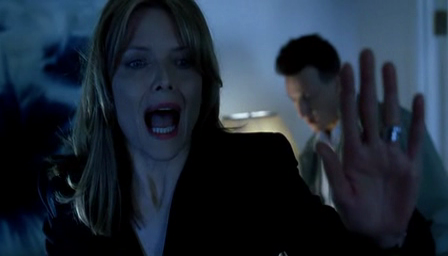face: (115, 19, 202, 160), (285, 82, 331, 133)
mcu: (1, 1, 448, 256)
person: (37, 1, 427, 256), (275, 32, 448, 256)
